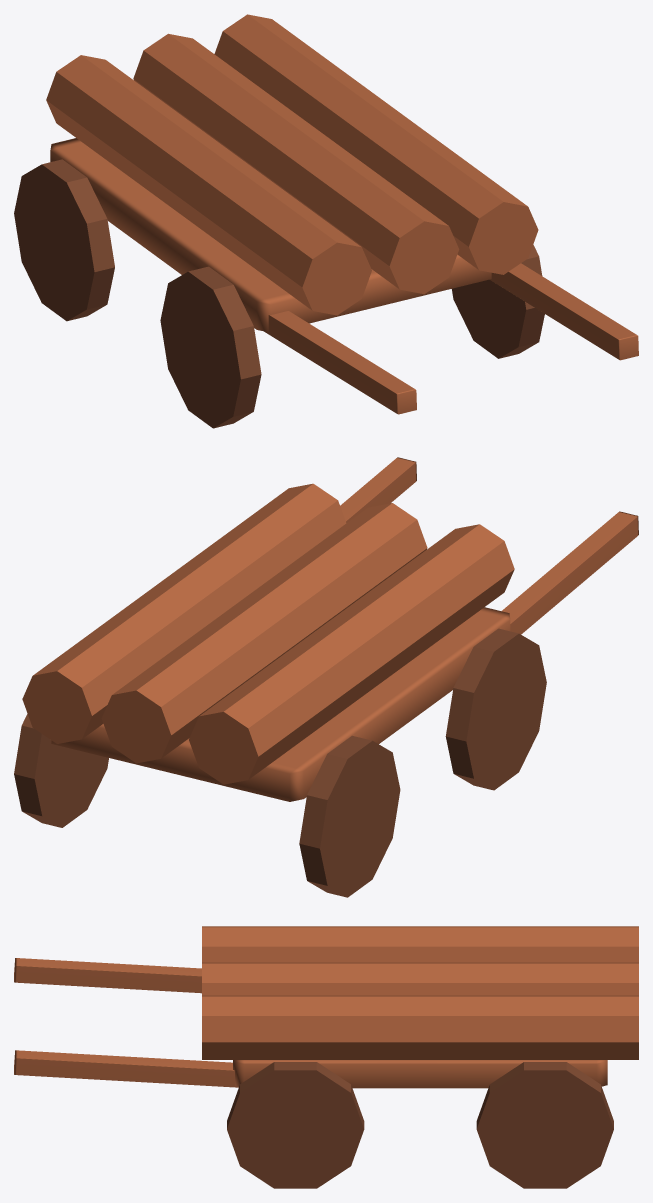
The model's file is timber_cart.glb.
3 views of the same model, one above another, from view 1: azimuth 30°, elevation 25°; view 2: azimuth 150°, elevation 25°; view 3: azimuth 270°, elevation 25° (orthographic). The views are drawn at different scales.
Visible parts, largest first — view 1: Loaded log, Loaded log.001, Loaded log.002, Cart bed, Cart wheel.001, Cart wheel, Cart handle, Cart wheel.002, Cart handle.001; view 2: Loaded log, Loaded log.001, Loaded log.002, Cart bed, Cart wheel.001, Cart wheel, Cart wheel.003, Cart handle, Cart handle.001; view 3: Loaded log.002, Loaded log, Loaded log.001, Cart wheel.003, Cart wheel.002, Cart bed, Cart handle.001, Cart handle.
Part boxes in pixels (left/top/right/bottom): Loaded log: left=46, top=55, right=371, bottom=315; Loaded log.001: left=133, top=33, right=459, bottom=294; Loaded log.002: left=214, top=14, right=538, bottom=274; Cart bed: left=50, top=138, right=491, bottom=332; Cart wheel.001: left=14, top=159, right=114, bottom=321; Cart wheel: left=160, top=266, right=261, bottom=428; Cart handle: left=264, top=311, right=416, bottom=414; Cart wheel.002: left=452, top=245, right=544, bottom=358; Cart handle.001: left=490, top=263, right=638, bottom=360; Loaded log: left=189, top=524, right=514, bottom=784; Loaded log.001: left=101, top=503, right=427, bottom=763; Loaded log.002: left=22, top=483, right=346, bottom=743; Cart bed: left=51, top=607, right=510, bottom=801; Cart wheel.001: left=299, top=735, right=400, bottom=897; Cart wheel: left=445, top=628, right=546, bottom=790; Cart wheel.003: left=14, top=714, right=108, bottom=827; Cart handle: left=501, top=511, right=638, bottom=634; Cart handle.001: left=340, top=457, right=416, bottom=522; Loaded log.002: left=202, top=995, right=638, bottom=1059; Loaded log: left=202, top=926, right=638, bottom=962; Loaded log.001: left=202, top=962, right=638, bottom=995; Cart wheel.003: left=476, top=1062, right=613, bottom=1188; Cart wheel.002: left=227, top=1062, right=364, bottom=1188; Cart bed: left=233, top=1060, right=607, bottom=1088; Cart handle.001: left=14, top=1050, right=238, bottom=1087; Cart handle: left=14, top=958, right=201, bottom=993.
Bounding box in the file's own units: 1.93 × 1.19 × 4.
